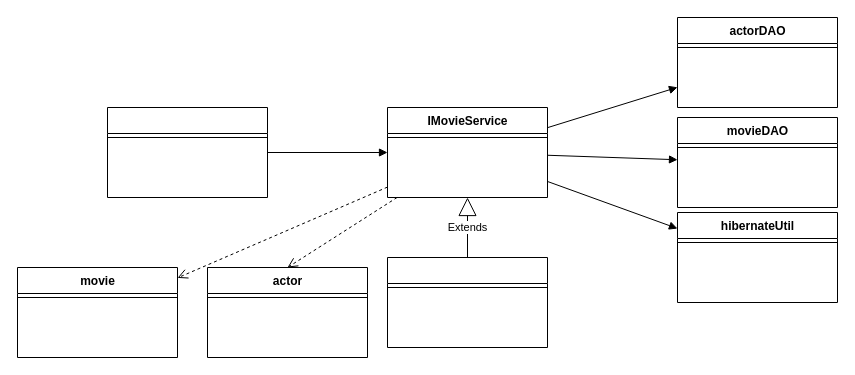
This 855x375 diagram has some shape labels left out. The centre of each missing label's shape, as x and y in pixels:
Main: the point at 187,152
movieService: the point at 467,302
